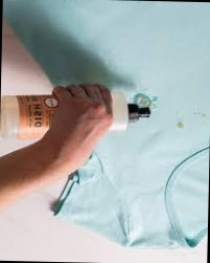oil: (135, 93, 159, 107), (172, 122, 185, 133), (194, 107, 207, 118)
